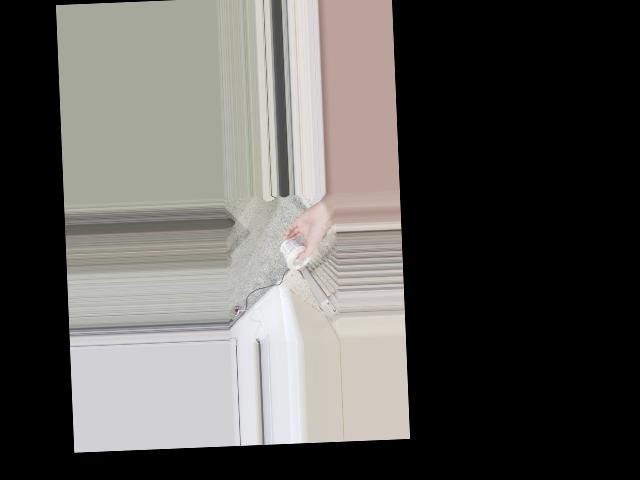cotage: (279, 235, 310, 269)
